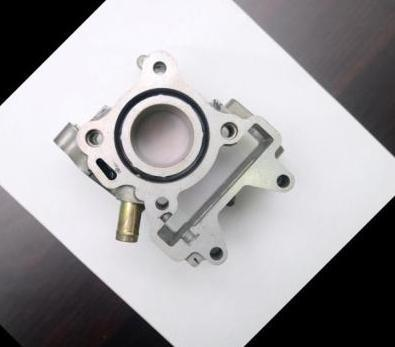hole: (77, 120, 107, 151), (213, 115, 242, 144), (271, 168, 294, 192), (147, 55, 170, 78), (150, 192, 172, 214), (205, 241, 227, 263)
